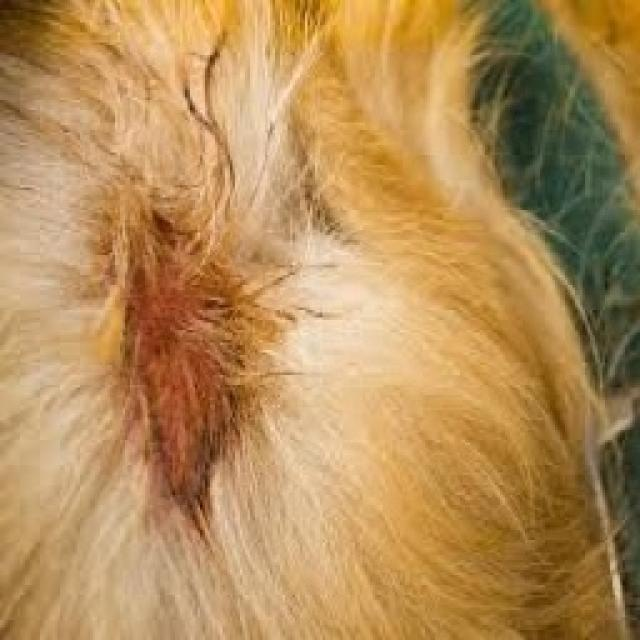hotspot: (124, 243, 242, 468)
